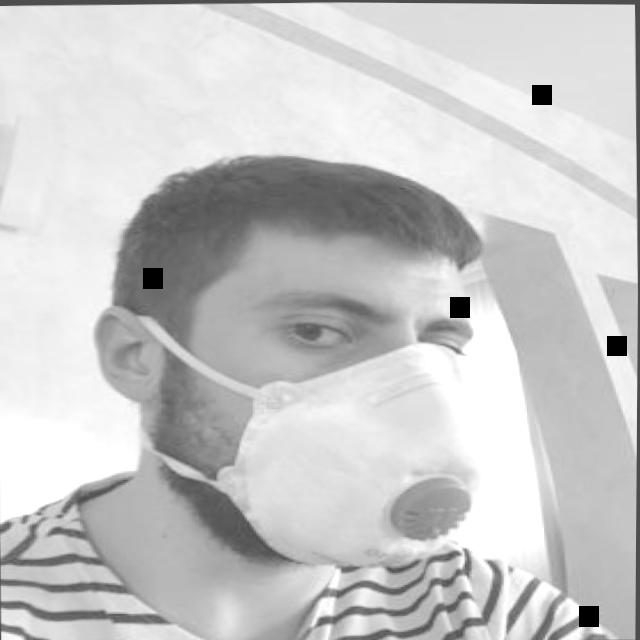Mask: (134, 263, 487, 572)
